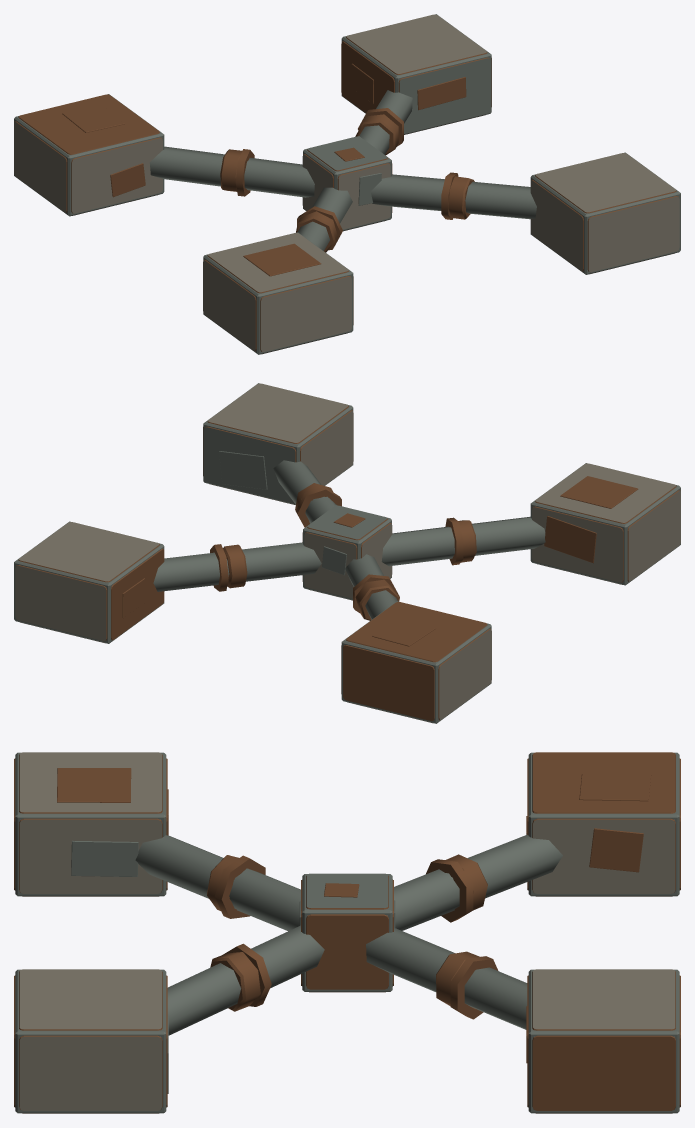
Rendered from R4C_ROD_CROSS.fbx.
3 views of the same model, one above another, from view 1: azimuth 30°, elevation 25°; view 2: azimuth 150°, elevation 25°; view 3: azimuth 270°, elevation 25° (orthographic). The views are drawn at different scales.
Parts seen in each view (by area): view 1: R4C_ROD_CROSS; view 2: R4C_ROD_CROSS; view 3: R4C_ROD_CROSS.
Boxes of the visible parts, box(x1,y1,x2,y2) form: R4C_ROD_CROSS: box(14, 14, 680, 354); R4C_ROD_CROSS: box(14, 383, 680, 723); R4C_ROD_CROSS: box(14, 752, 680, 1113).
Bounding box in the file's own units: 1.62 × 0.232 × 1.62.
